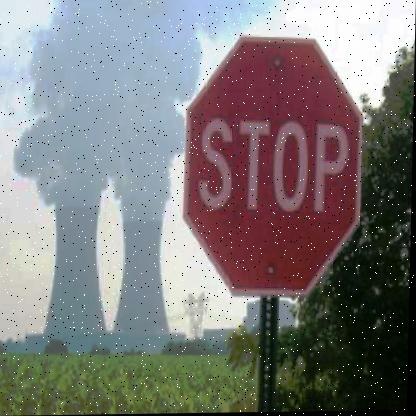Stop Sign: (175, 13, 368, 307)
